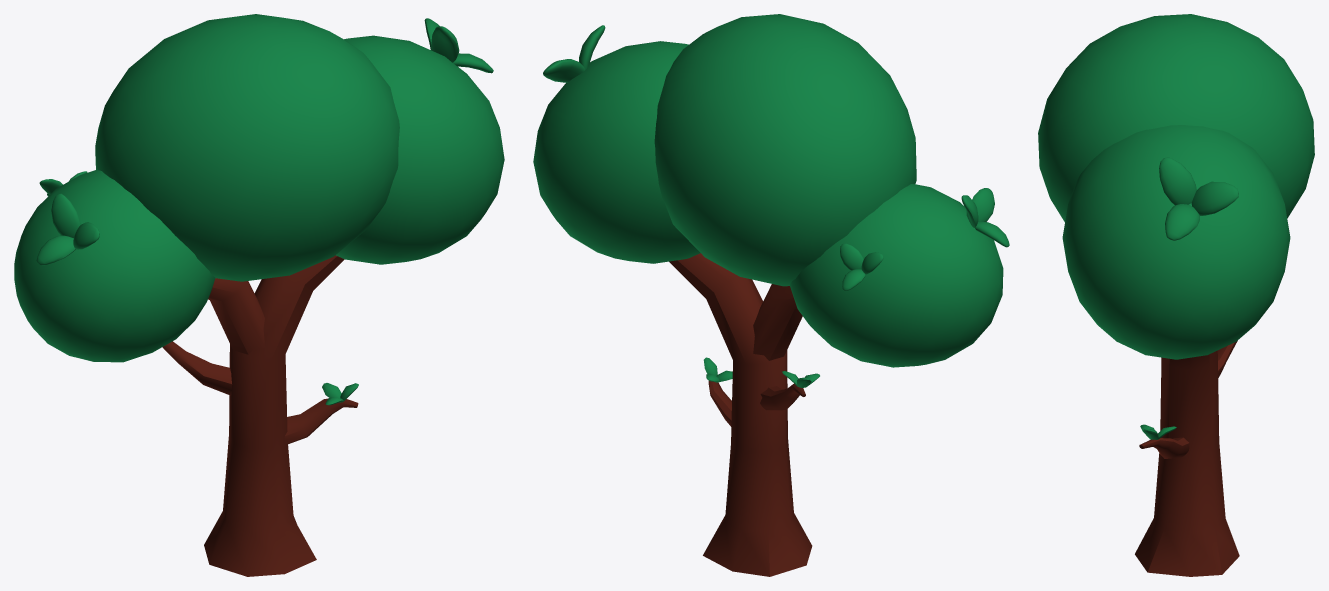
Rendered from treeB.obj.
3 views of the same model, side by side, from view 1: azimuth 30°, elevation 25°; view 2: azimuth 150°, elevation 25°; view 3: azimuth 270°, elevation 25° (orthographic). The views are drawn at different scales.
Parts seen in each view (by area): view 1: treeB_Cylinder.259; view 2: treeB_Cylinder.259; view 3: treeB_Cylinder.259.
Part boxes in pixels (x1,y1,x2,y2): treeB_Cylinder.259: (14, 14, 504, 576); treeB_Cylinder.259: (533, 14, 1009, 576); treeB_Cylinder.259: (1038, 14, 1314, 576).
Size of the model in its own units: 4.15 by 4.58 by 2.2.
